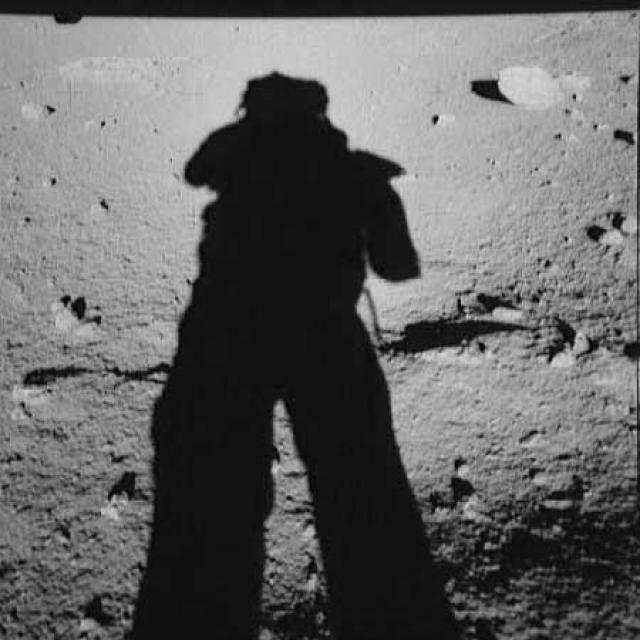rock: (479, 55, 588, 122), (46, 288, 104, 338), (92, 472, 130, 526), (584, 218, 628, 252)
